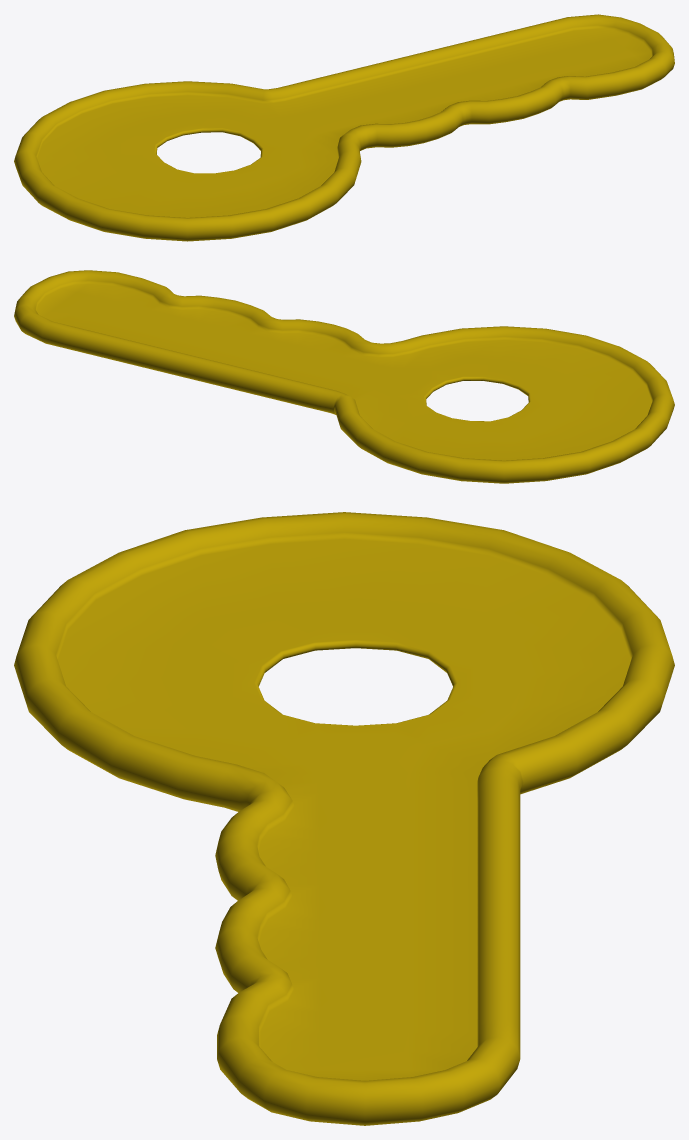
The picture shows the model from 3 angles, top to bottom: view 1: azimuth 30°, elevation 25°; view 2: azimuth 150°, elevation 25°; view 3: azimuth 270°, elevation 25°; orthographic projection. The views are drawn at different scales.
Parts seen in each view (by area): view 1: BabyKeyCircFin; view 2: BabyKeyCircFin; view 3: BabyKeyCircFin.
Part boxes in pixels (x1,y1,x2,y2): BabyKeyCircFin: (14,14,674,241); BabyKeyCircFin: (14,270,674,483); BabyKeyCircFin: (14,512,674,1125).
Size of the model in its own units: 0.3108 by 0.0103 by 0.148.
